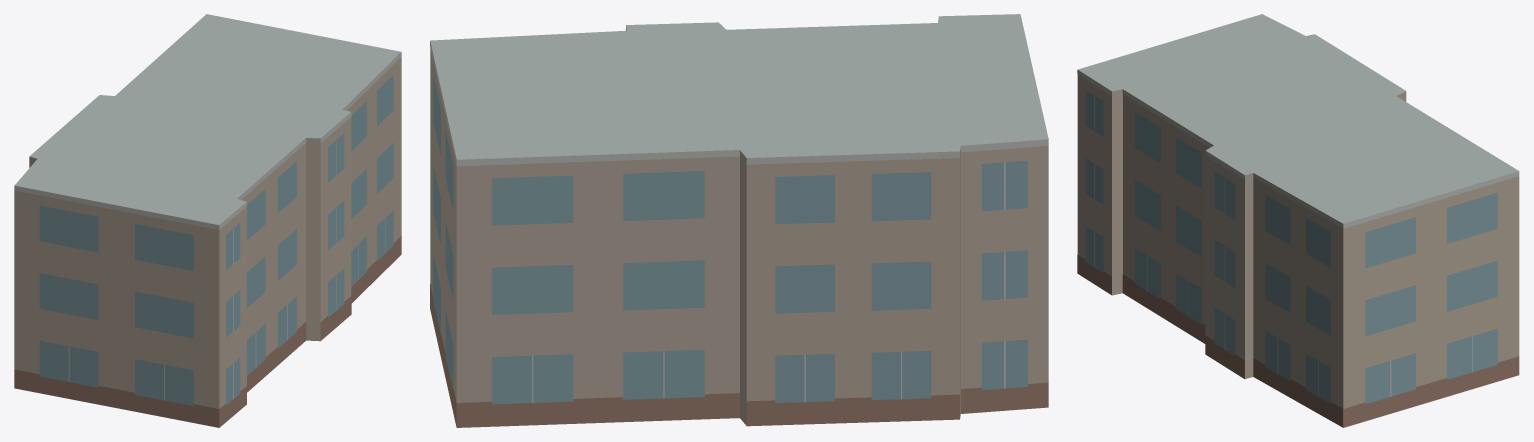
File: survey-upis-32811894.glb
3 views of the same model, side by side, from view 1: azimuth 30°, elevation 25°; view 2: azimuth 150°, elevation 25°; view 3: azimuth 270°, elevation 25° (orthographic). The views are drawn at different scales.
Parts seen in each view (by area): view 1: survey-upis-32811894.tmp; view 2: survey-upis-32811894.tmp; view 3: survey-upis-32811894.tmp.
Boxes of the visible parts, box(x1,y1,x2,y2) form: survey-upis-32811894.tmp: box(14, 14, 401, 427); survey-upis-32811894.tmp: box(430, 14, 1048, 427); survey-upis-32811894.tmp: box(1077, 14, 1519, 427).
Size of the model in its own units: 22.18 by 10.05 by 19.73.
